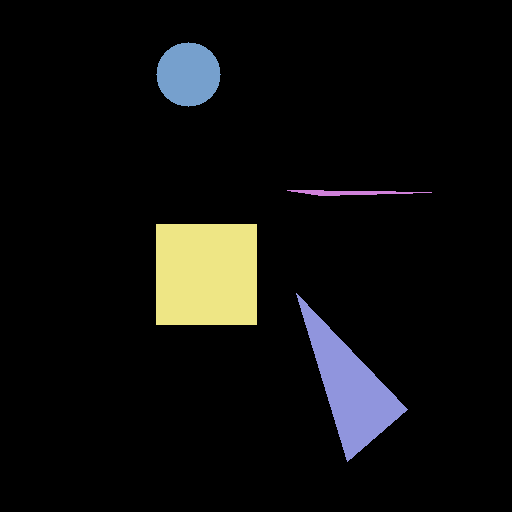circle: (156, 42, 220, 106)
square: (156, 224, 256, 324)
triangle: (296, 293, 407, 461)
